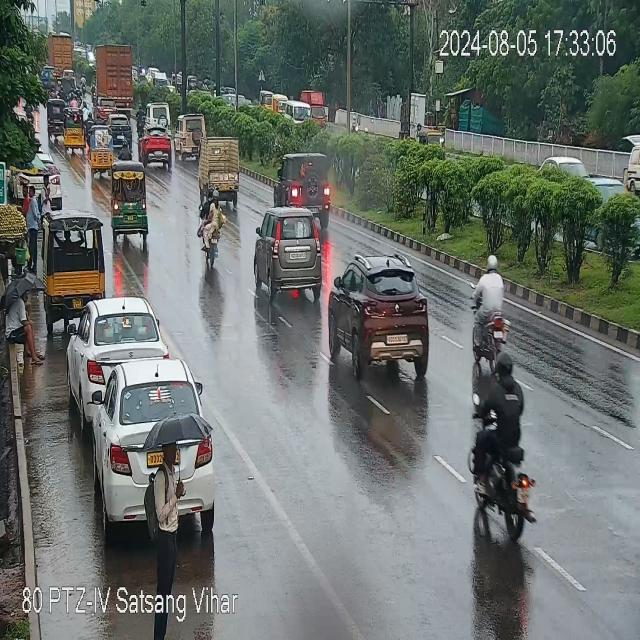2-wheelers: (470, 352, 534, 550), (466, 248, 514, 372), (201, 179, 224, 270), (68, 88, 80, 121), (136, 102, 144, 134)
auto: (43, 215, 107, 313), (111, 163, 154, 240), (91, 122, 113, 176), (410, 124, 452, 150), (63, 122, 86, 156), (48, 99, 68, 138)
car: (90, 361, 204, 532), (324, 254, 436, 377), (70, 296, 161, 406), (252, 207, 322, 306), (272, 151, 332, 227), (174, 111, 208, 161), (142, 130, 172, 166), (110, 114, 133, 150)
pedestrian: (150, 410, 187, 591), (4, 289, 37, 370), (25, 181, 43, 265)
truck: (194, 136, 245, 203), (96, 46, 133, 108)
